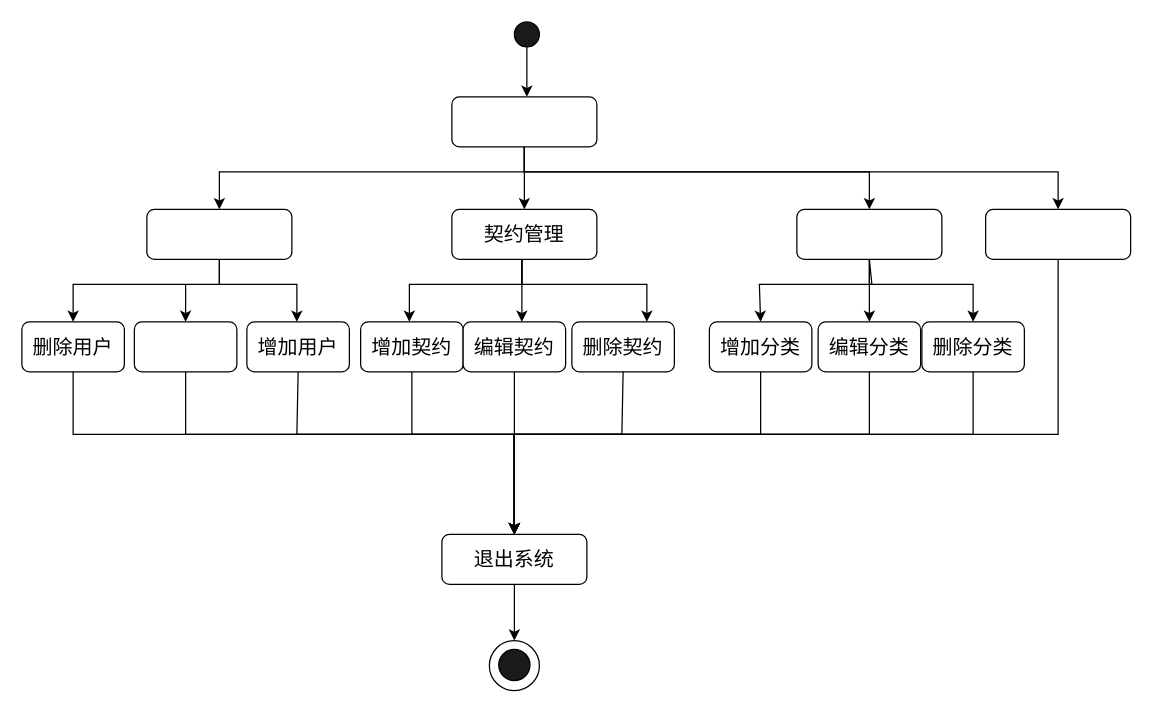
Image size: 1153x713. Some labels were removed from this diagram. The shapes that lost their labels are listed below. From the top down, each one's box as (x1, y1, x2, y2) in pixels, then its label:
(451, 96, 597, 147): 登陆系统
(146, 208, 292, 259): 用户管理
(796, 208, 942, 259): 分类管理
(984, 208, 1131, 259): 统计数据
(133, 321, 237, 372): 编辑用户
